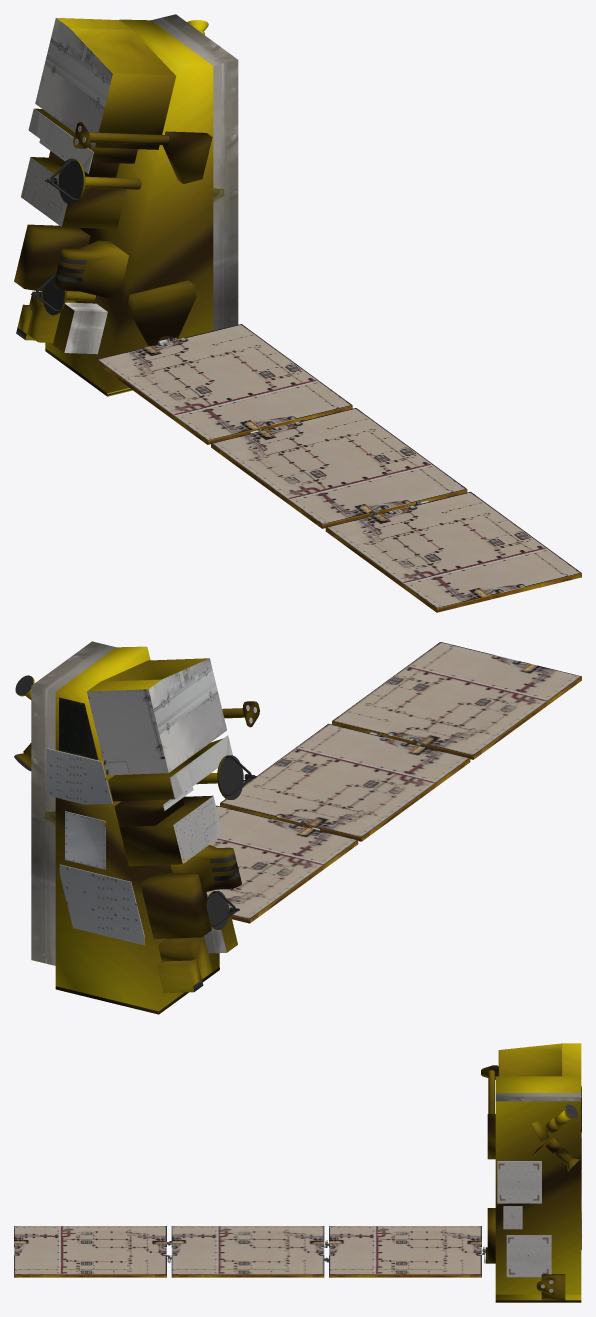
File: suomi.glb
The picture shows the model from 3 angles, top to bottom: view 1: azimuth 30°, elevation 25°; view 2: azimuth 150°, elevation 25°; view 3: azimuth 270°, elevation 25°; orthographic projection. The views are drawn at different scales.
Visible parts, largest first — view 1: shiny_panel, foil_gold, tex_02, AO_01; view 2: shiny_panel, foil_gold, tex_02, AO_01, foil_silver; view 3: shiny_panel, foil_gold, tex_02.
Boxes of the visible parts, box(x1,y1,x2,y2) form: shiny_panel: box(75, 126, 581, 612); foil_gold: box(14, 18, 213, 396); tex_02: box(21, 14, 238, 354); AO_01: box(31, 158, 83, 315); shiny_panel: box(46, 642, 581, 945); foil_gold: box(15, 646, 259, 1014); tex_02: box(31, 641, 232, 965); AO_01: box(14, 675, 256, 929); foil_silver: box(193, 854, 239, 991); shiny_panel: box(14, 1132, 581, 1292); foil_gold: box(481, 1043, 581, 1302); tex_02: box(495, 1086, 581, 1132).
Size of the model in its own units: 2.57 by 4.18 by 8.96.
5 materials, 5 textured.
